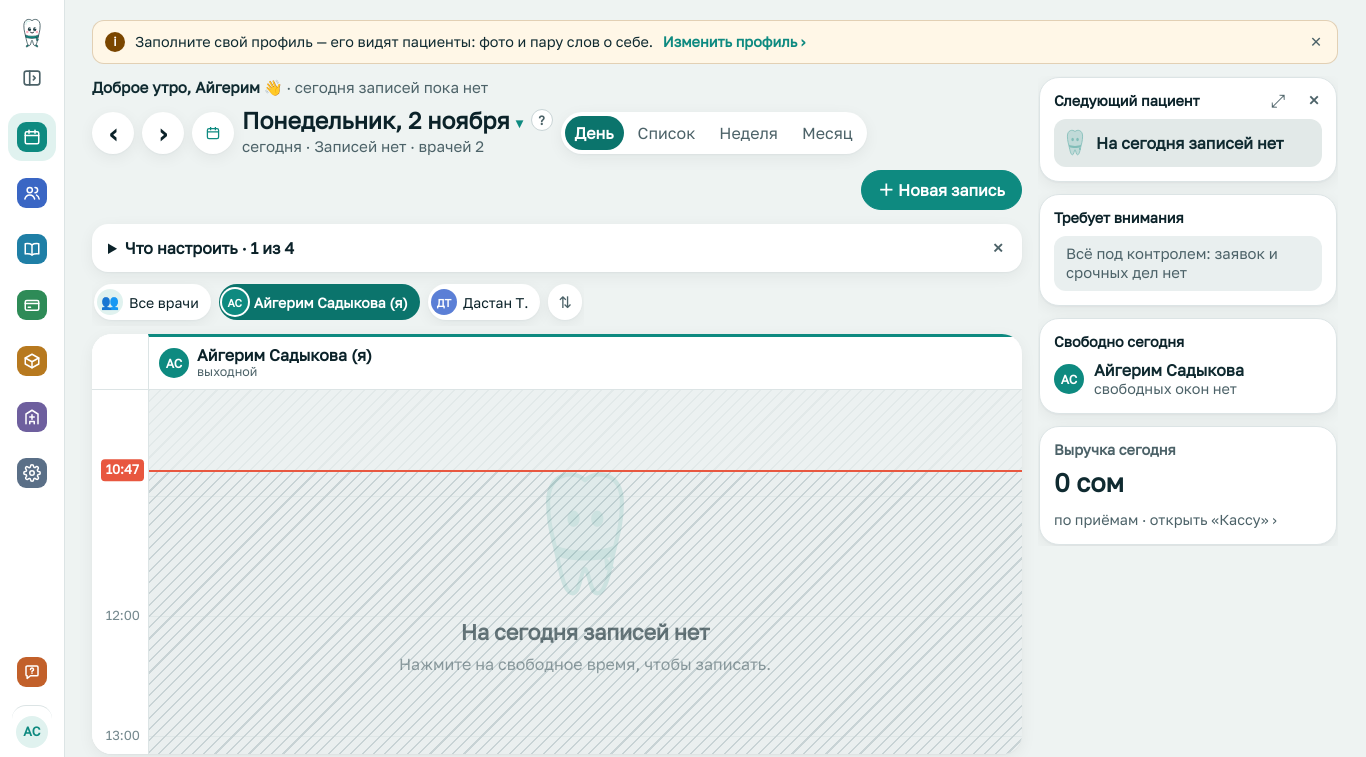
Test case: «＋ Новая запись» — время не подставлено (не 09:00, которое прошло): сетка свободного
(page scrolled)
Click the button "＋ Новая запись" at (942,190), box [861,170,1022,210]
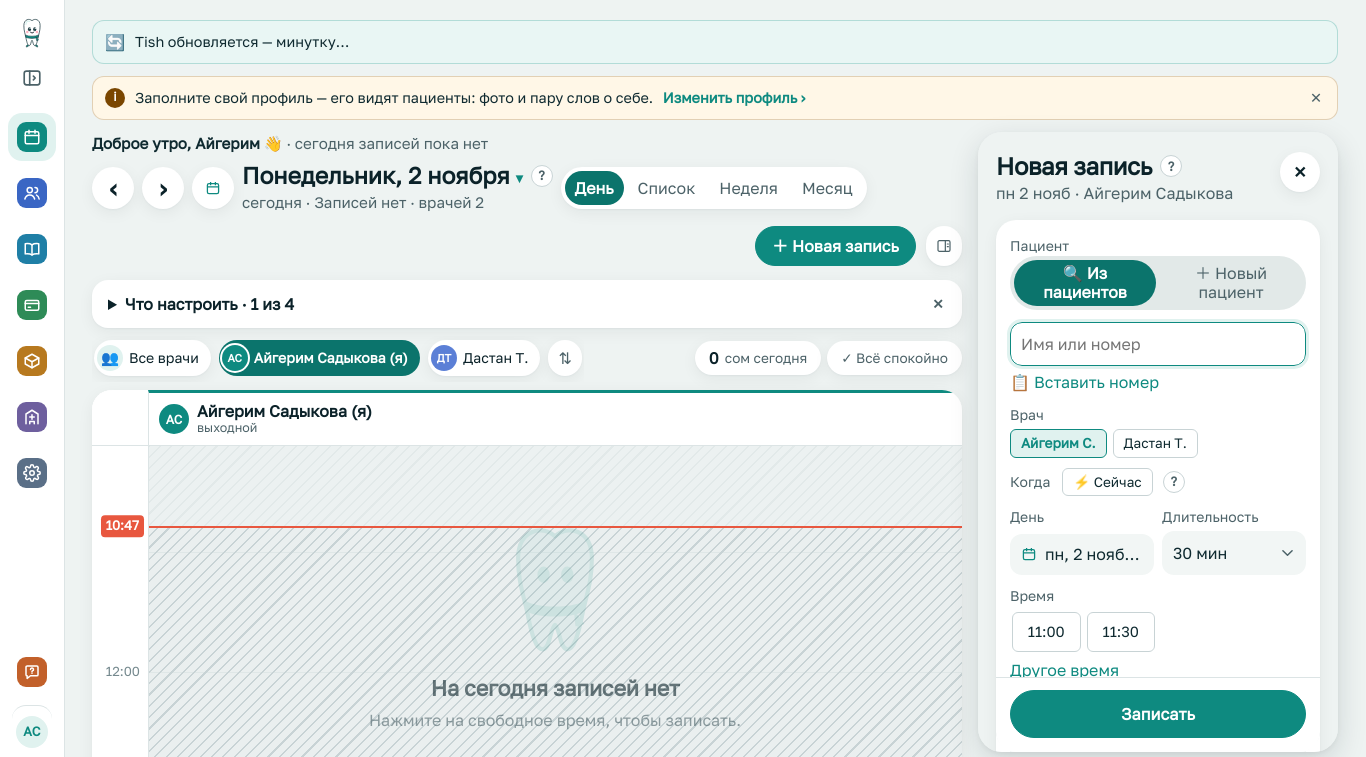
Type "Нур" into the search field named "Найти пациента" at (1158,344), box [1010,322,1306,366]
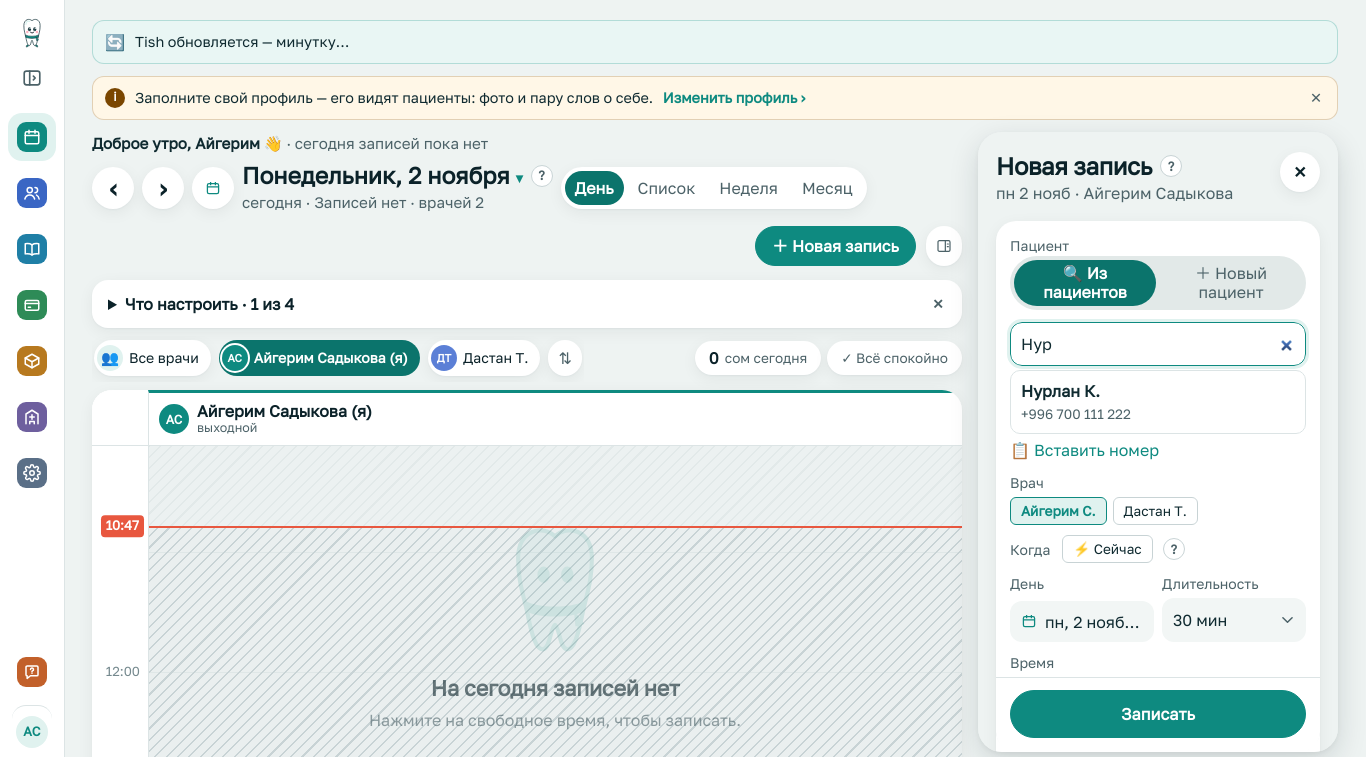
Click the button "Нурлан К. +996 700 111 222" at (1060,391), box [1011,371,1305,432]
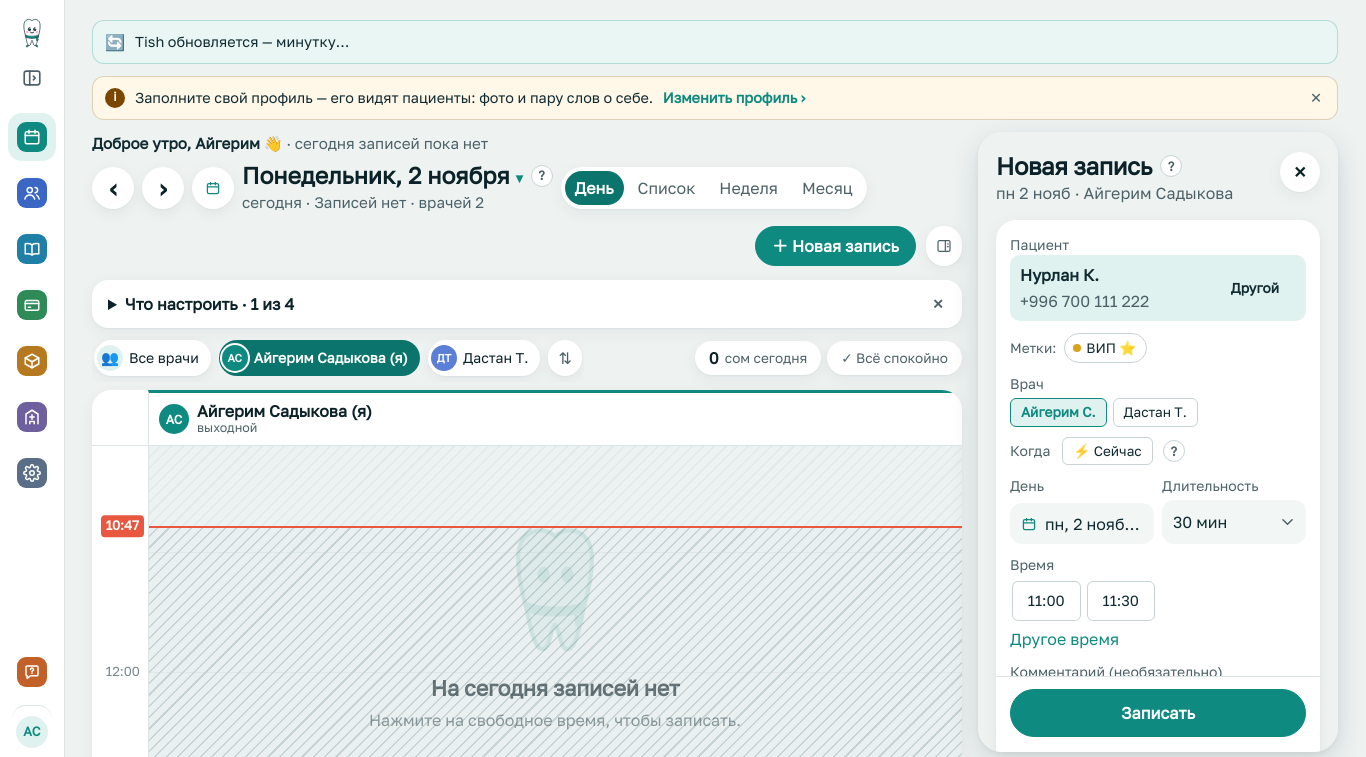
Click the button "Записать" at (1158,714), box [1010,690,1306,738]
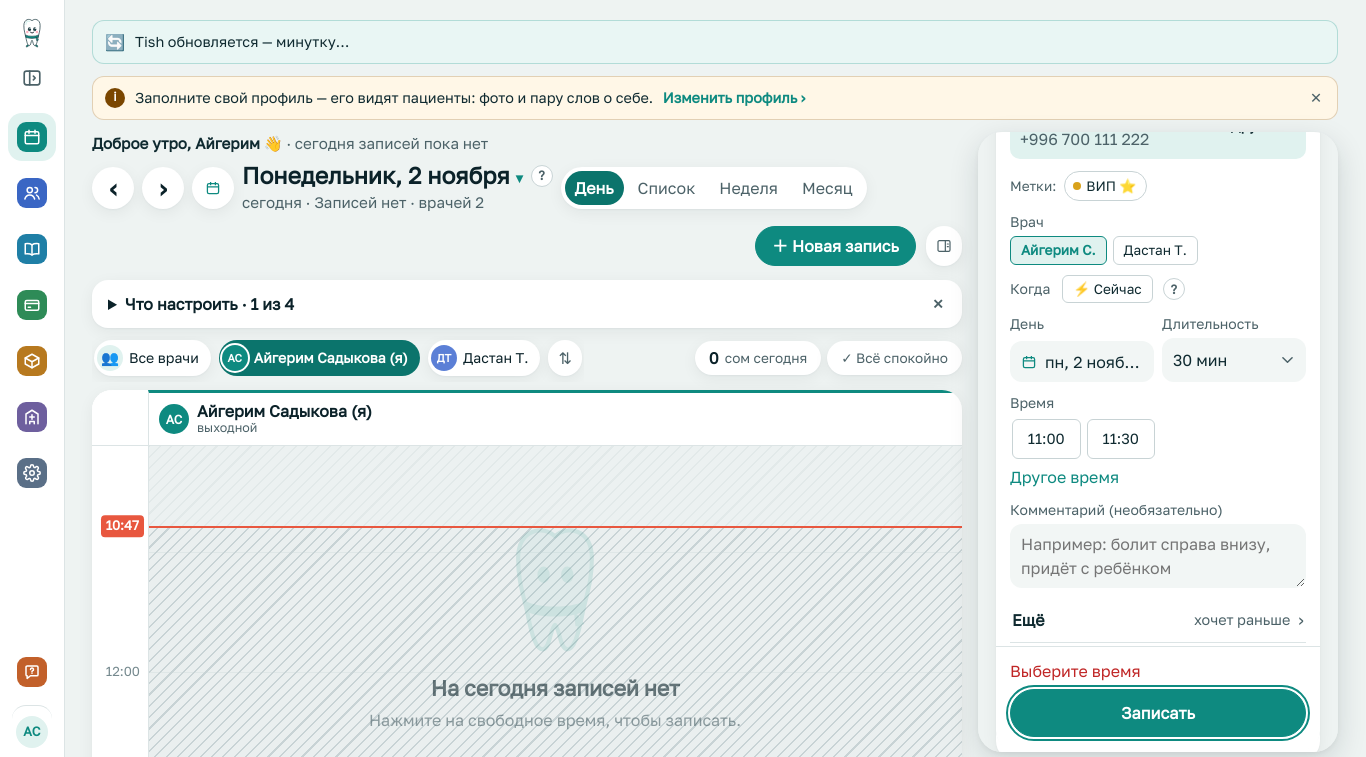
expect the message "Выберите время" is shown: met, box [1010,662,1141,682]
